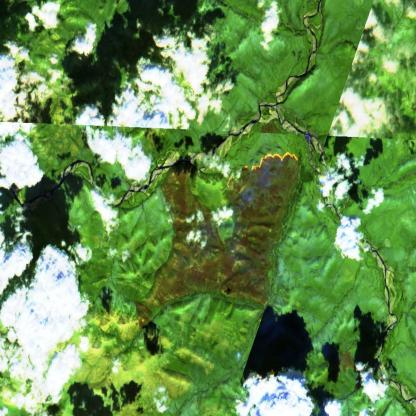fire: (223, 137, 304, 194)
